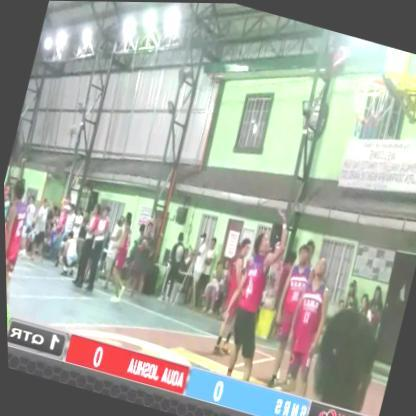basketball: (320, 33, 360, 90)
rim: (329, 47, 410, 170)
